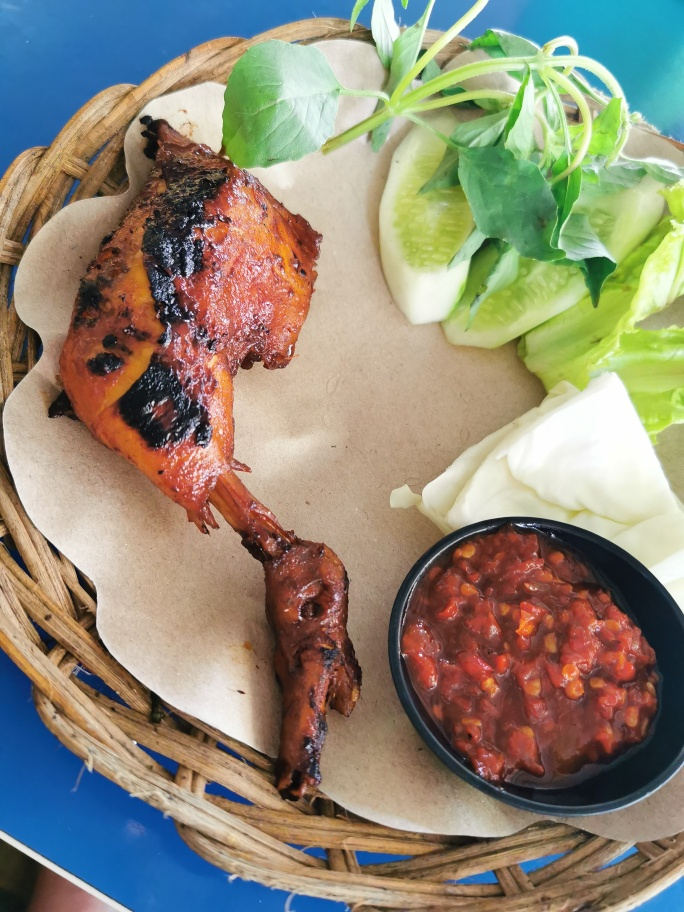ayam bakar: (37, 105, 387, 806)
